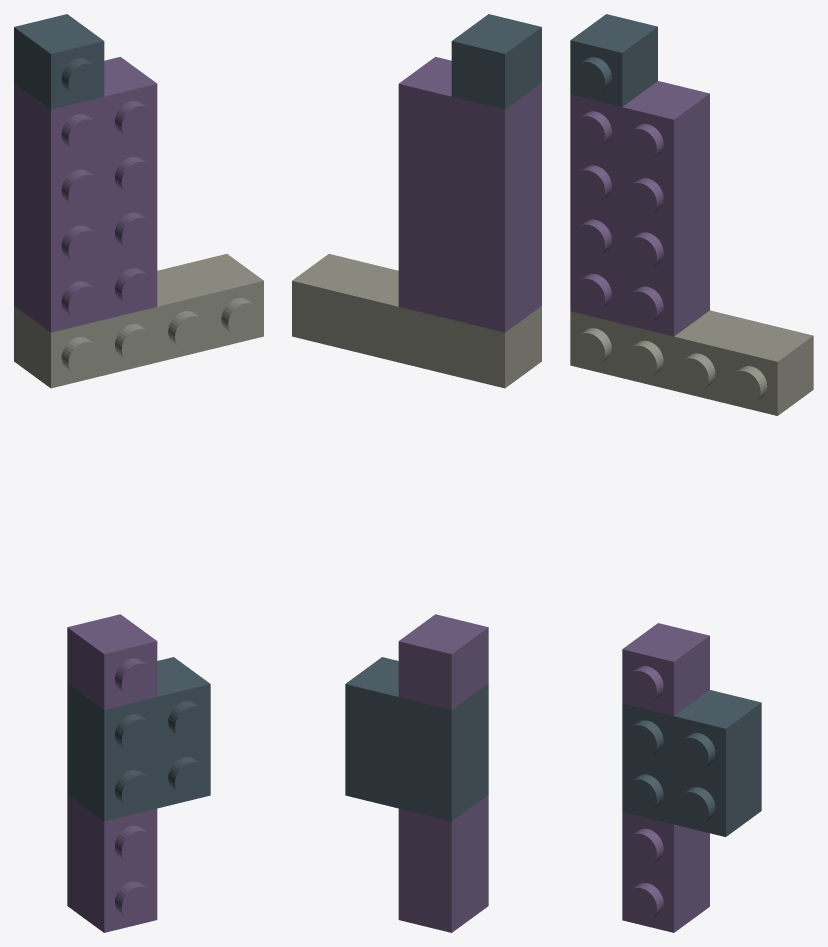
File: current.glb
3 renders of one model, left to right at view 1: azimuth 30°, elevation 25°; view 2: azimuth 150°, elevation 25°; view 3: azimuth 330°, elevation 25°, orthographic. The views are drawn at different scales.
Visible parts, largest first — view 1: world; view 2: world; view 3: world.
Boxes of the visible parts, <box> form: world: <box>14,14,263,932</box>; world: <box>292,14,541,932</box>; world: <box>570,14,813,932</box>.
Size of the model in its own units: 32 by 128 by 11.4.
